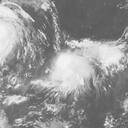cyclone: (50, 53, 91, 90)
